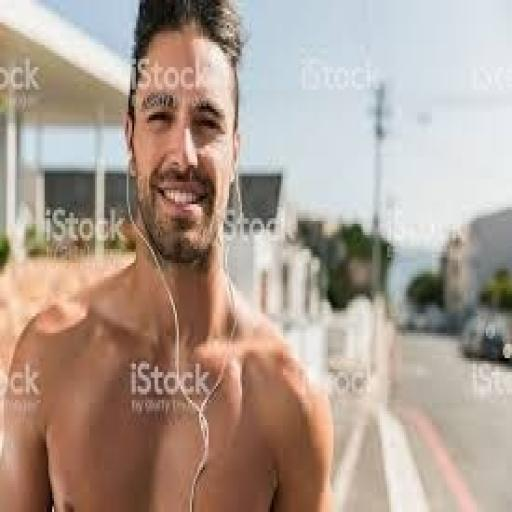listening_to_music: (0, 0, 335, 509)
